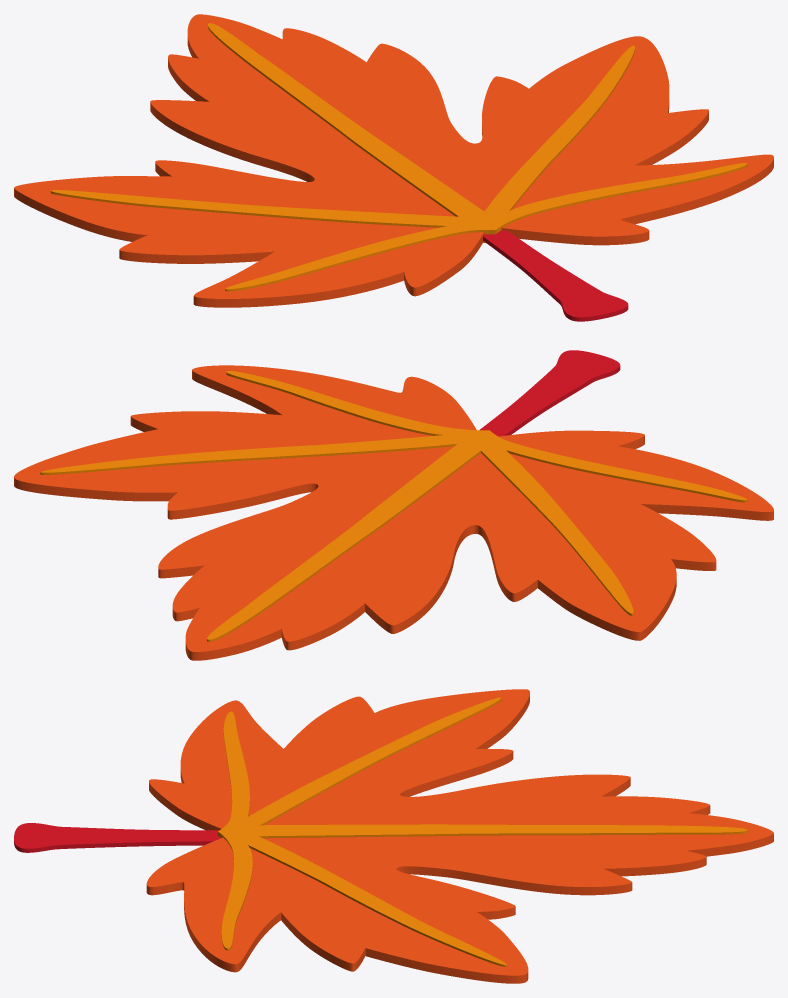
The model's file is emoji_u1f341.glb.
3 renders of one model, top to bottom at view 1: azimuth 30°, elevation 25°; view 2: azimuth 150°, elevation 25°; view 3: azimuth 270°, elevation 25°, orthographic. The views are drawn at different scales.
Visible parts, largest first — view 1: emoji_u1f341; view 2: emoji_u1f341; view 3: emoji_u1f341.
Part boxes in pixels (x1,y1,x2,y2): emoji_u1f341: (14,14,773,321); emoji_u1f341: (14,350,773,660); emoji_u1f341: (14,689,773,983).
Bounding box in the file's own units: 0.0303 × 0.0006 × 0.034.
